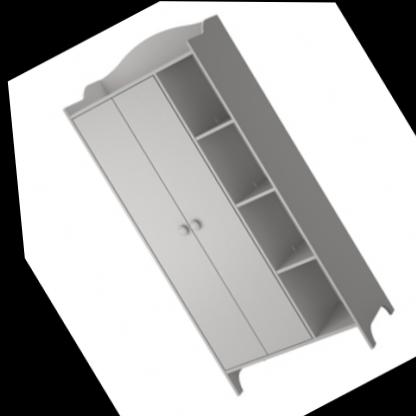Cabinet: (36, 0, 412, 416)
